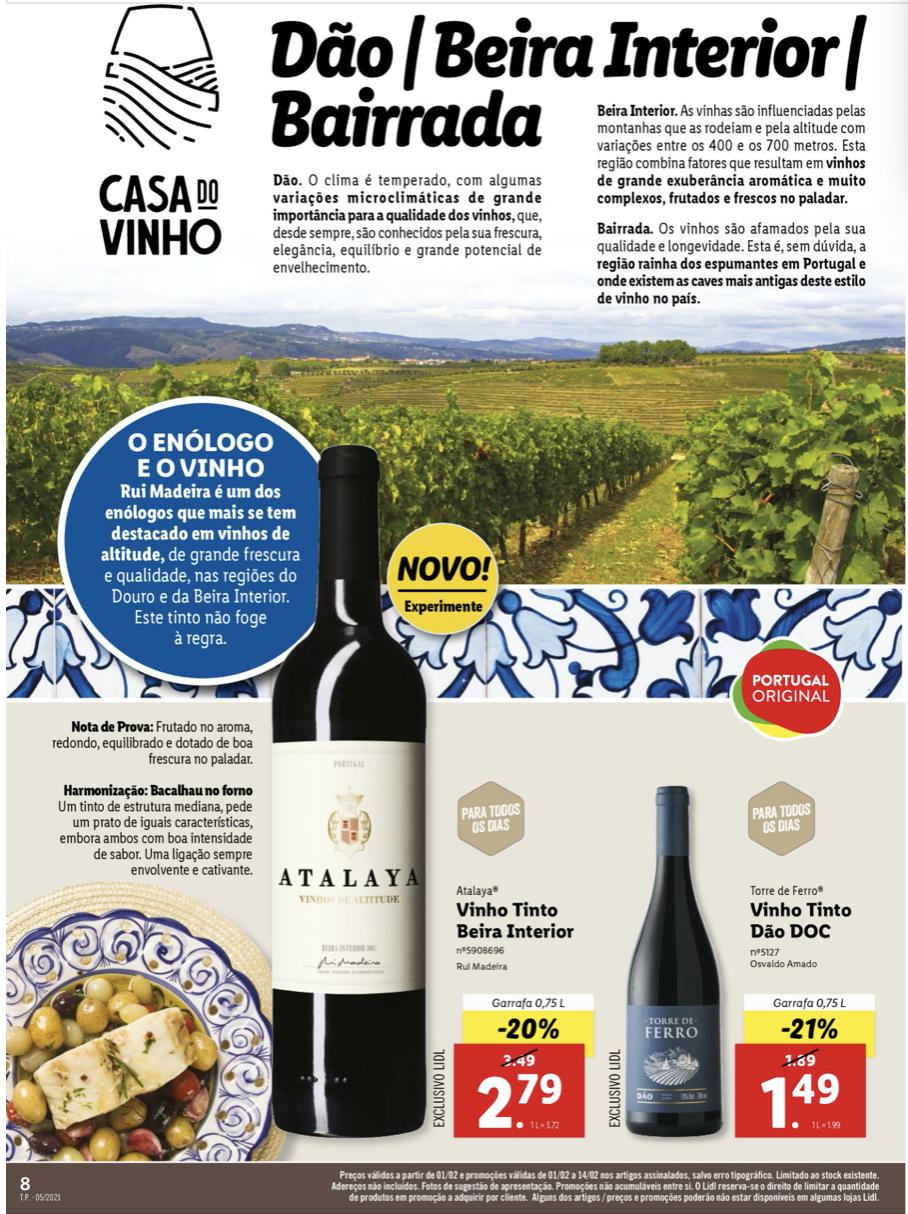name: (452, 894, 572, 950), (740, 894, 860, 942)
price: (473, 1062, 573, 1131), (752, 1066, 841, 1134)
product: (287, 425, 600, 1144), (600, 769, 876, 1144)
promotion: (490, 1010, 566, 1048), (779, 1016, 838, 1044)
